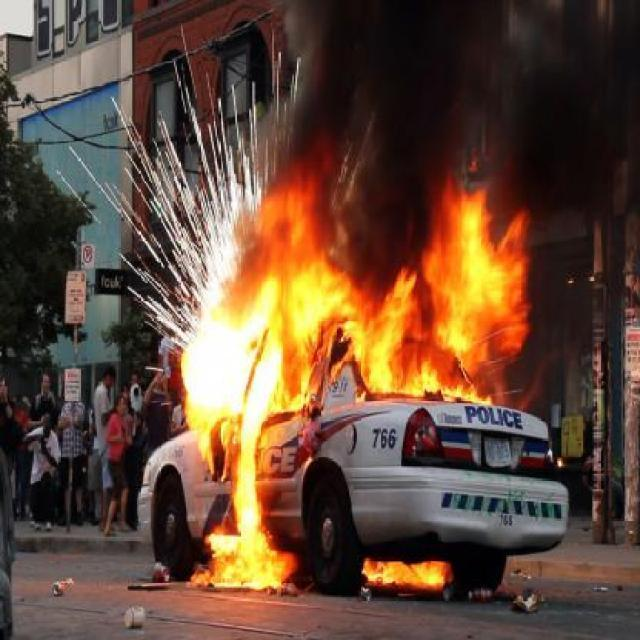Fire: (368, 198, 534, 396), (181, 260, 300, 420), (196, 423, 292, 589), (302, 260, 368, 358), (366, 560, 445, 593)
Smoke: (286, 1, 640, 187)
